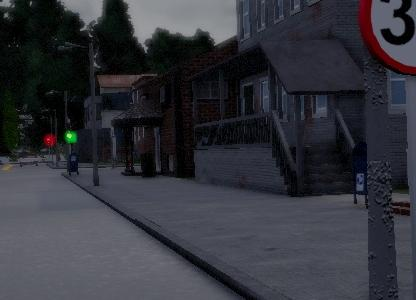Speed_30: (356, 0, 416, 77)
